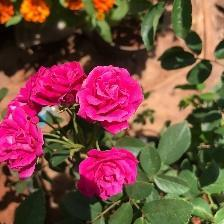rose: (78, 62, 147, 137), (1, 105, 49, 180), (78, 148, 141, 201), (19, 62, 89, 106)
